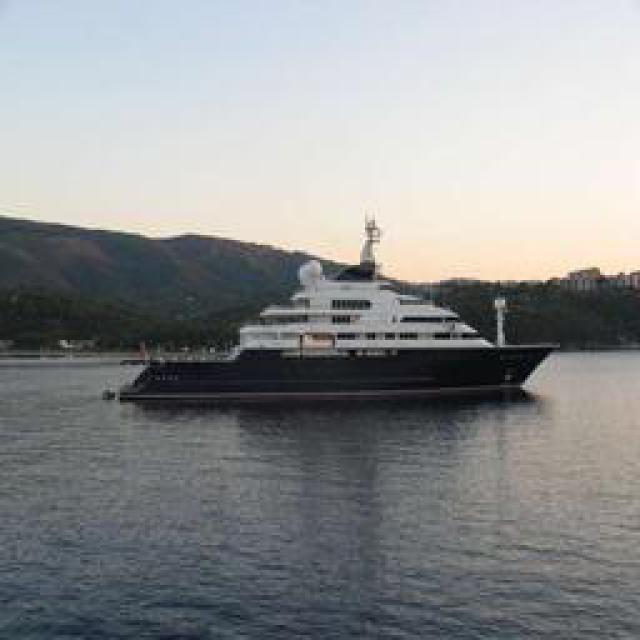Ship: (110, 210, 553, 413)
